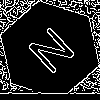N: (25, 25, 85, 83)
